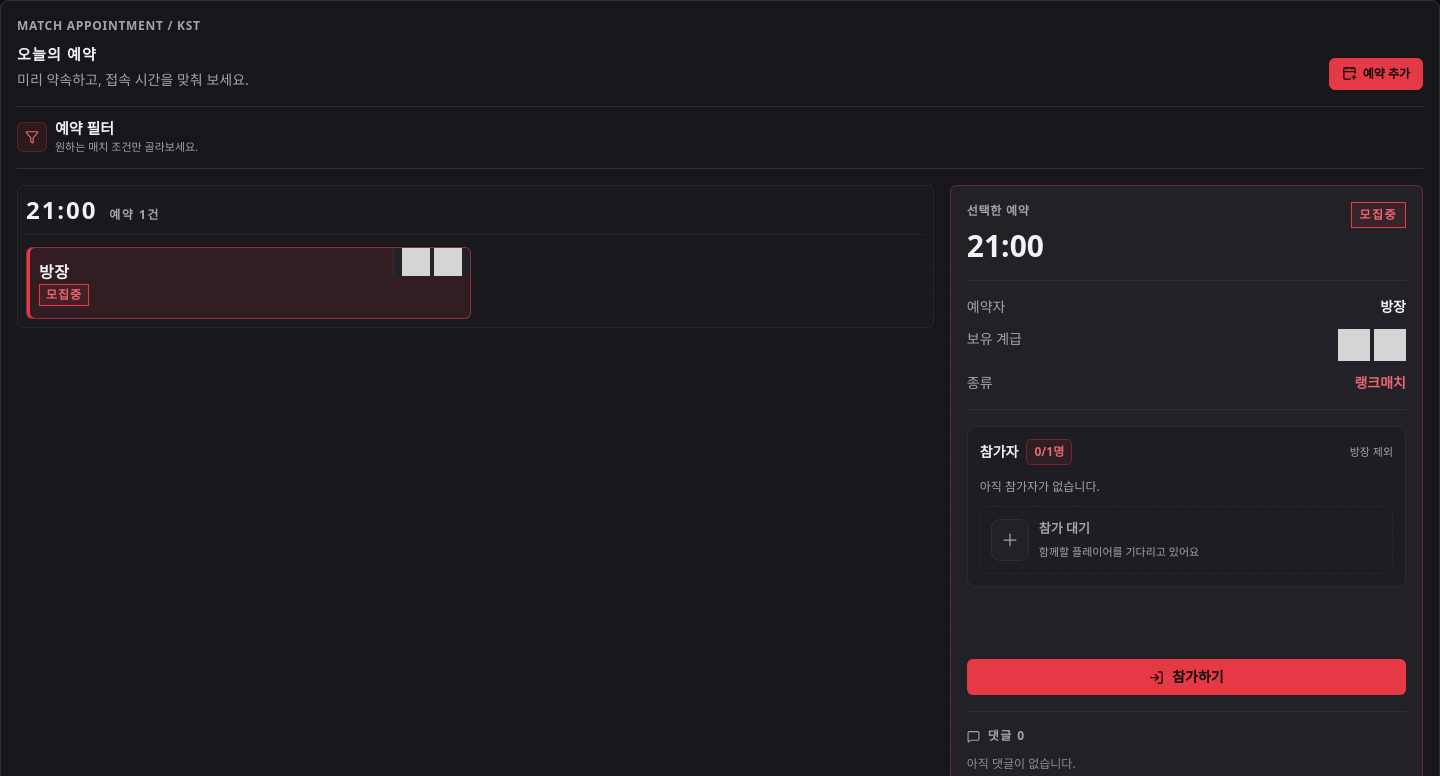
Test: participant roster › refreshes names and counts after joining and cancelling
The image size is (1440, 776).
Click the button "참가하기": (1186, 677) [967,659,1406,695]
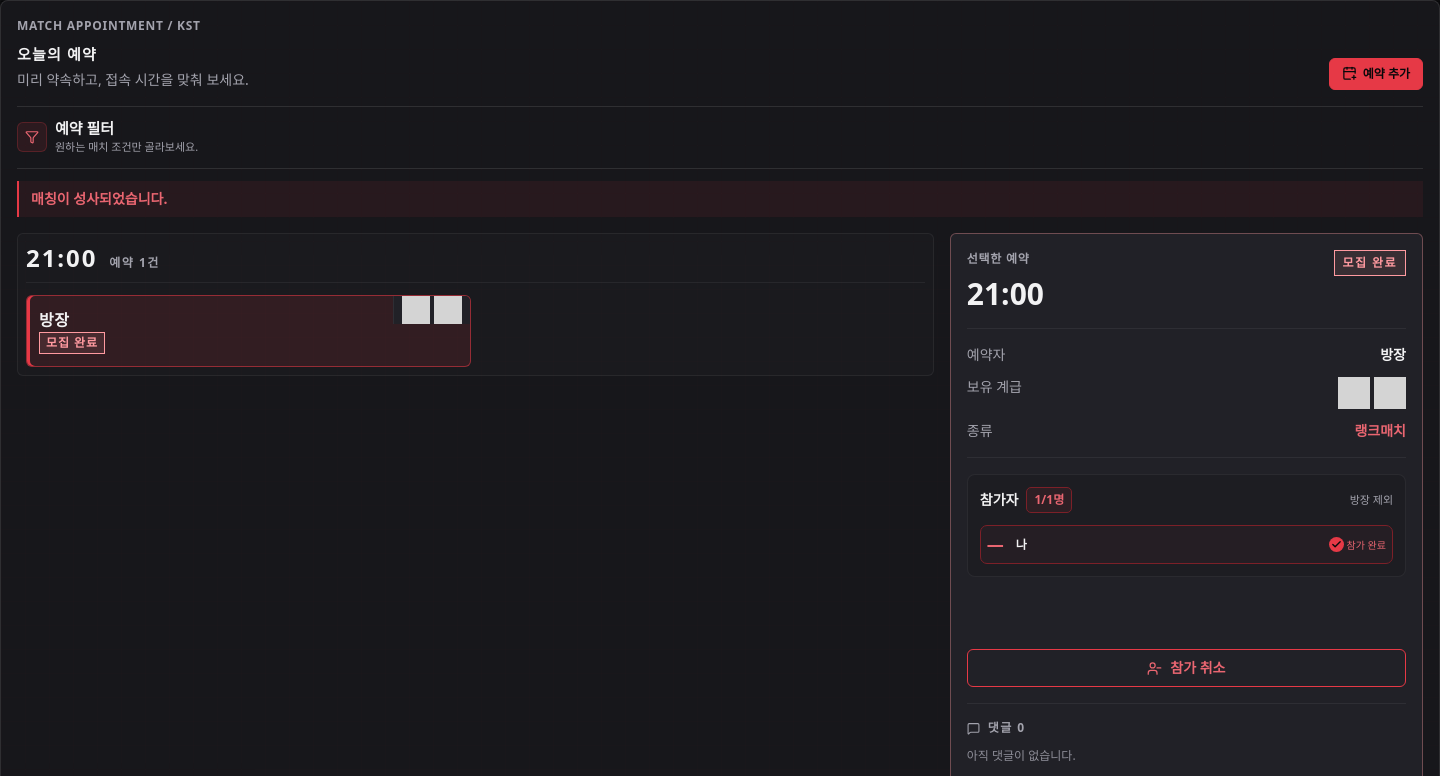
Now the list item "나" is shown, box [980,525,1393,564]
Now the element named "참가자 명단" shows "참가자 1/1명", box [967,474,1406,577]
Click the button "참가 취소": (1186, 668) [967,649,1406,687]
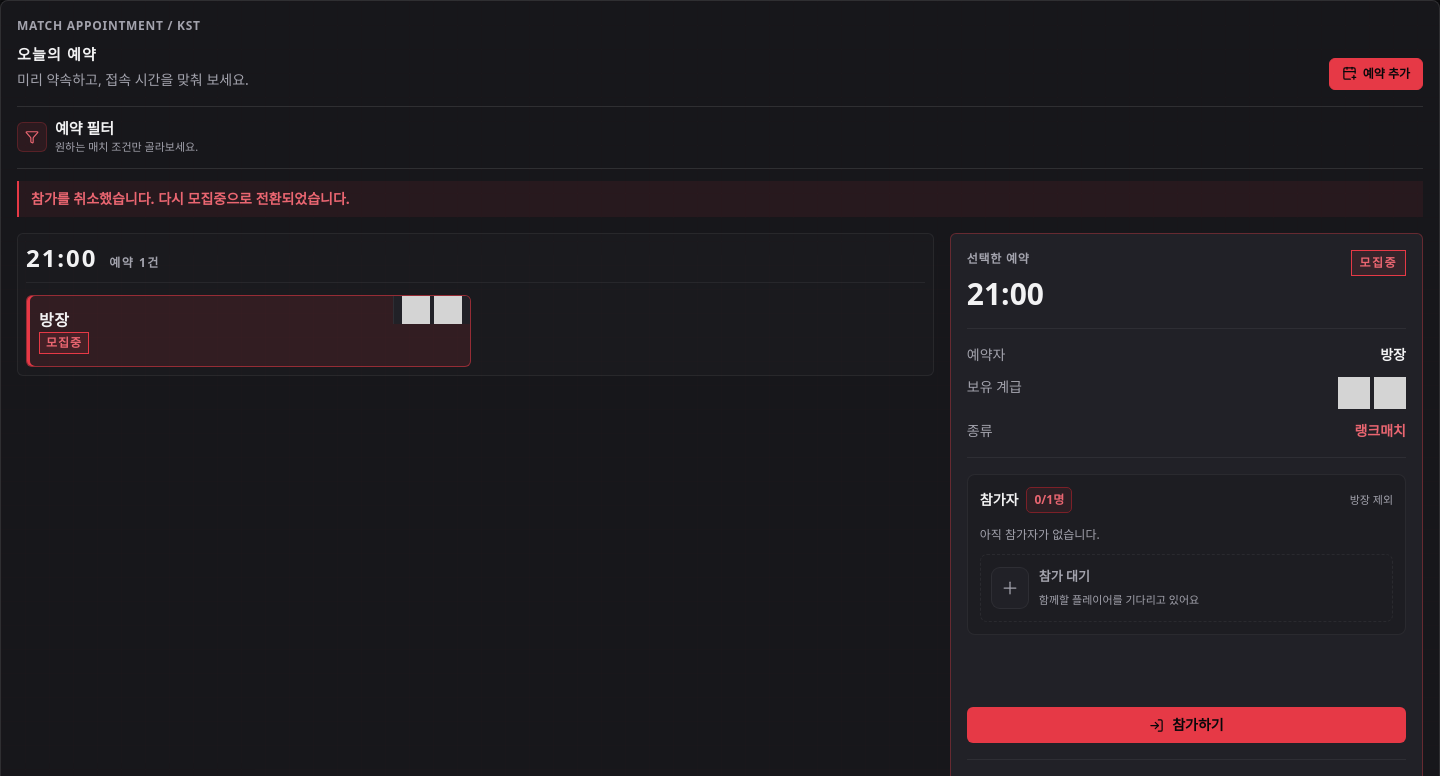
Now the text "아직 참가자가 없습니다." is shown, box [980,526,1100,543]
Now the element named "참가자 명단" shows "참가자 0/1명", box [967,474,1406,635]
Now the text "나" is gone
